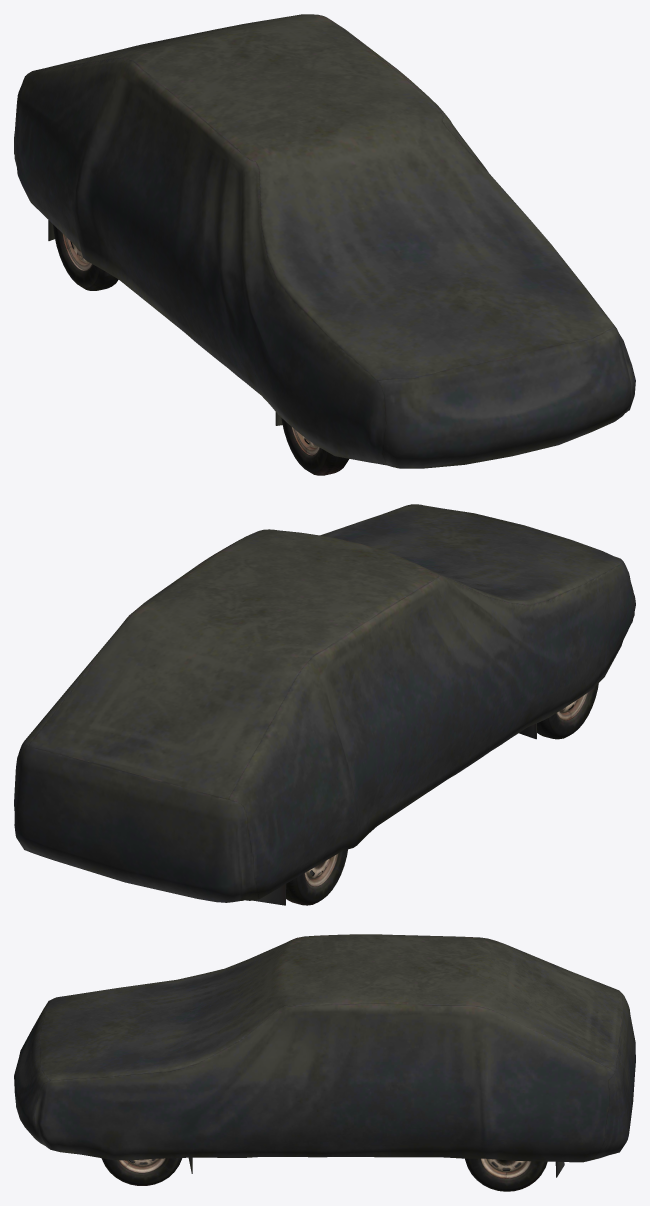
The model's file is covered_car.glb.
The picture shows the model from 3 angles, top to bottom: view 1: azimuth 30°, elevation 25°; view 2: azimuth 150°, elevation 25°; view 3: azimuth 270°, elevation 25°; orthographic projection. The views are drawn at different scales.
Parts seen in each view (by area): view 1: covered_car_wheel_01; view 2: covered_car_wheel_01; view 3: covered_car_wheel_01.
Part boxes in pixels (x1,y1,x2,y2): covered_car_wheel_01: (14, 14, 635, 475); covered_car_wheel_01: (14, 504, 635, 905); covered_car_wheel_01: (14, 934, 635, 1191).
Size of the model in its own units: 1.87 by 1.41 by 4.4.
1 material, 1 textured.
